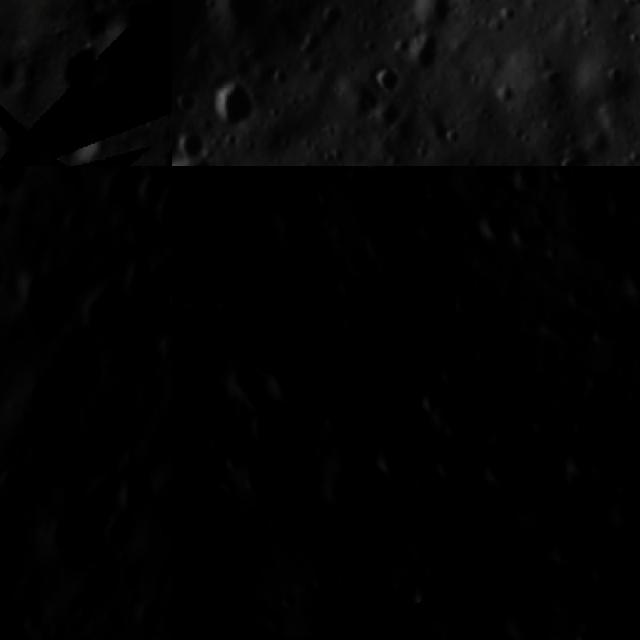crater: (0, 318, 126, 458), (30, 468, 136, 586), (0, 235, 108, 344), (172, 0, 248, 141), (0, 414, 85, 525), (191, 57, 280, 146), (66, 258, 150, 342), (172, 496, 220, 640), (55, 19, 132, 107), (106, 450, 172, 524), (356, 203, 430, 267), (49, 103, 123, 166), (87, 166, 158, 219), (123, 575, 172, 640), (364, 54, 416, 106), (0, 240, 26, 332), (1, 123, 56, 166), (555, 139, 640, 166), (172, 116, 217, 166), (145, 166, 172, 243), (0, 182, 33, 241), (0, 607, 47, 640), (476, 204, 512, 242), (0, 166, 40, 200), (474, 458, 511, 494), (414, 576, 440, 622), (439, 353, 473, 387), (380, 444, 401, 481), (624, 265, 640, 296)
